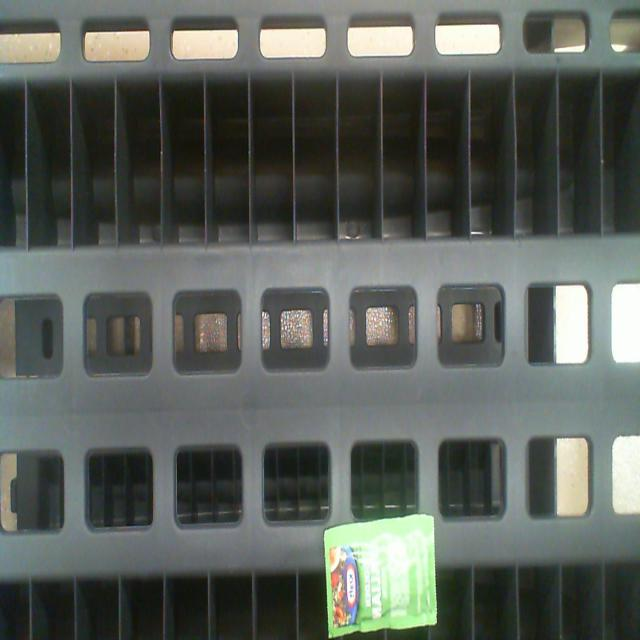snack: (323, 516, 436, 637)
